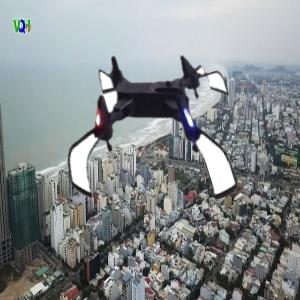drone: (56, 41, 242, 227)
